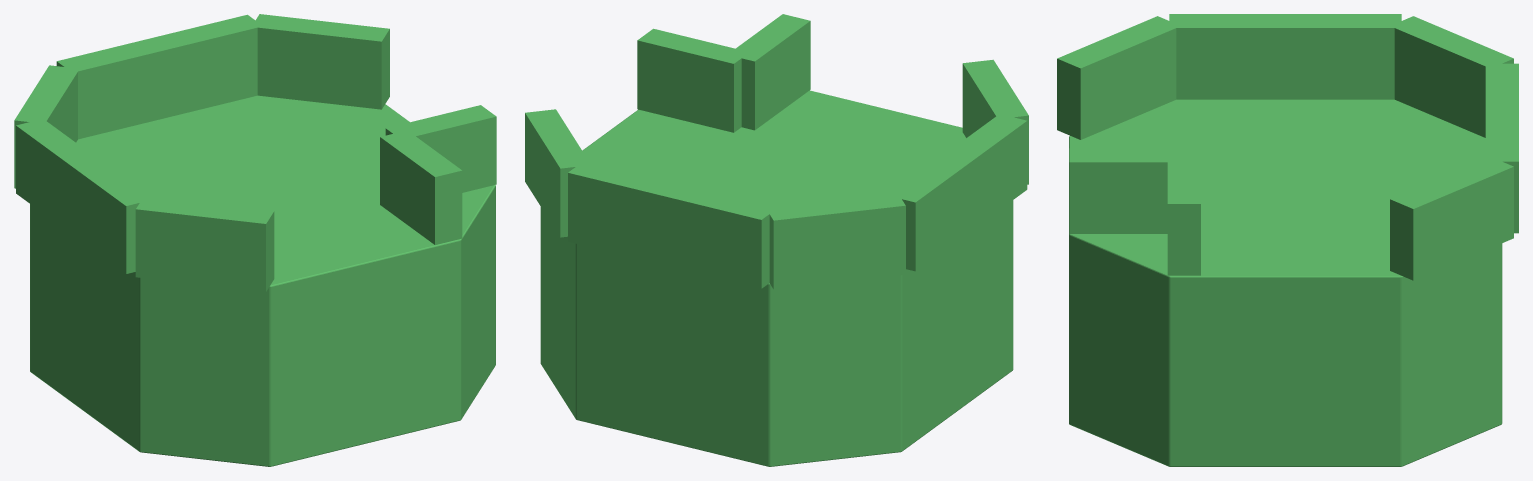
Rendered from fortress_wallwalk_corner_outer_collision.glb.
The picture shows the model from 3 angles, left to right: view 1: azimuth 30°, elevation 25°; view 2: azimuth 150°, elevation 25°; view 3: azimuth 270°, elevation 25°; orthographic projection. The views are drawn at different scales.
Parts seen in each view (by area): view 1: fortress_wallwalk_corner_outer-col-core, fortress_wallwalk_corner_outer-col-outer-3, fortress_wallwalk_corner_outer-col-outer-0, fortress_wallwalk_corner_outer-col-outer-1, fortress_wallwalk_corner_outer-col-outer-4, fortress_wallwalk_corner_outer-col-inner-s, fortress_wallwalk_corner_outer-col-inner-e, fortress_wallwalk_corner_outer-col-outer-2; view 2: fortress_wallwalk_corner_outer-col-core, fortress_wallwalk_corner_outer-col-outer-3, fortress_wallwalk_corner_outer-col-outer-1, fortress_wallwalk_corner_outer-col-outer-2, fortress_wallwalk_corner_outer-col-inner-e, fortress_wallwalk_corner_outer-col-inner-s, fortress_wallwalk_corner_outer-col-outer-4, fortress_wallwalk_corner_outer-col-outer-0; view 3: fortress_wallwalk_corner_outer-col-core, fortress_wallwalk_corner_outer-col-outer-1, fortress_wallwalk_corner_outer-col-outer-4, fortress_wallwalk_corner_outer-col-outer-0, fortress_wallwalk_corner_outer-col-inner-s, fortress_wallwalk_corner_outer-col-outer-2, fortress_wallwalk_corner_outer-col-inner-e, fortress_wallwalk_corner_outer-col-outer-3.
Boxes of the visible parts, <box> form: fortress_wallwalk_corner_outer-col-core: <box>30,95,495,466</box>; fortress_wallwalk_corner_outer-col-outer-3: <box>56,14,262,139</box>; fortress_wallwalk_corner_outer-col-outer-0: <box>135,196,274,291</box>; fortress_wallwalk_corner_outer-col-outer-1: <box>16,119,152,273</box>; fortress_wallwalk_corner_outer-col-outer-4: <box>252,14,389,109</box>; fortress_wallwalk_corner_outer-col-inner-s: <box>380,134,462,244</box>; fortress_wallwalk_corner_outer-col-inner-e: <box>385,105,496,192</box>; fortress_wallwalk_corner_outer-col-outer-2: <box>14,65,79,188</box>; fortress_wallwalk_corner_outer-col-core: <box>540,90,1013,466</box>; fortress_wallwalk_corner_outer-col-outer-3: <box>568,161,771,288</box>; fortress_wallwalk_corner_outer-col-outer-1: <box>888,114,1027,271</box>; fortress_wallwalk_corner_outer-col-outer-2: <box>766,192,905,289</box>; fortress_wallwalk_corner_outer-col-inner-e: <box>637,28,749,132</box>; fortress_wallwalk_corner_outer-col-inner-s: <box>736,14,810,130</box>; fortress_wallwalk_corner_outer-col-outer-4: <box>525,109,589,237</box>; fortress_wallwalk_corner_outer-col-outer-0: <box>962,59,1028,184</box>; fortress_wallwalk_corner_outer-col-core: <box>1069,99,1502,466</box>; fortress_wallwalk_corner_outer-col-outer-1: <box>1169,14,1401,99</box>; fortress_wallwalk_corner_outer-col-outer-4: <box>1390,157,1513,280</box>; fortress_wallwalk_corner_outer-col-outer-0: <box>1057,16,1180,139</box>; fortress_wallwalk_corner_outer-col-inner-s: <box>1069,148,1184,233</box>; fortress_wallwalk_corner_outer-col-outer-2: <box>1391,16,1513,137</box>; fortress_wallwalk_corner_outer-col-inner-e: <box>1167,155,1200,275</box>; fortress_wallwalk_corner_outer-col-outer-3: <box>1485,63,1518,233</box>.
Size of the model in its own units: 6.66 by 4.19 by 6.66.
